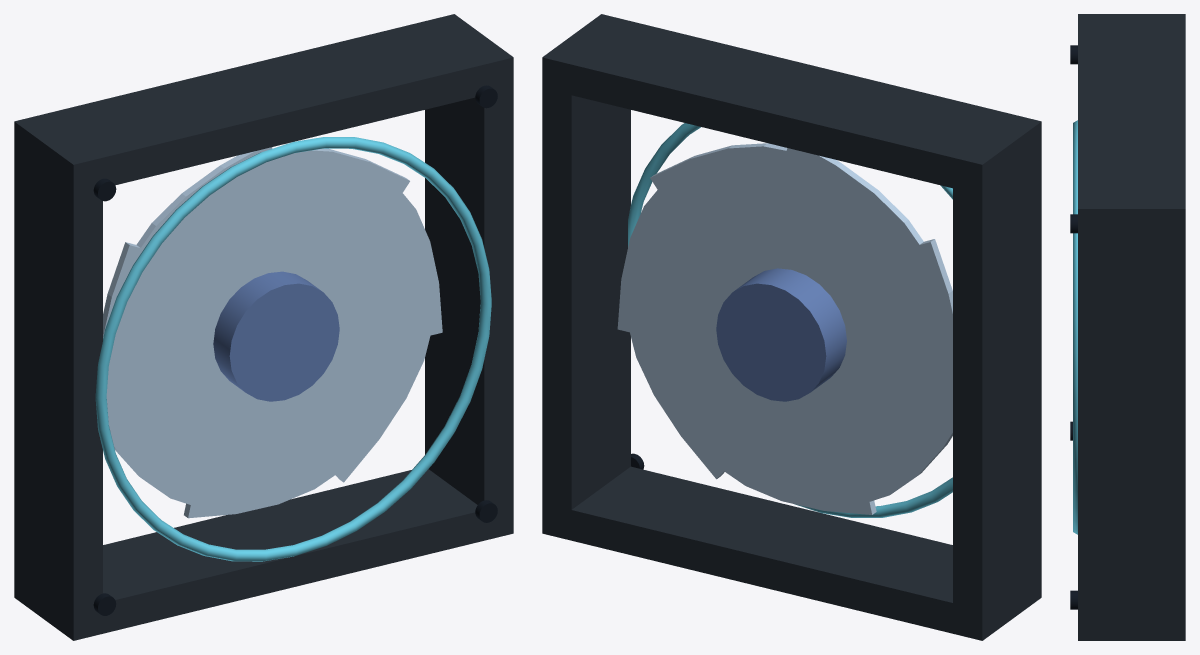
The model's file is retail-lian-li-uni-fan-tl-120-lcd-wireless-black.glb.
3 renders of one model, left to right at view 1: azimuth 30°, elevation 25°; view 2: azimuth 150°, elevation 25°; view 3: azimuth 270°, elevation 25°, orthographic. The views are drawn at different scales.
Parts seen in each view (by area): view 1: Frame edge (×4), Blade (×7), Intake rim, Motor hub; view 2: Frame edge (×4), Blade (×7), Motor hub, Intake rim; view 3: Frame edge (×3), Intake rim.
Boxes of the visible parts, x1,y1,x2,y2 form: Frame edge (×4): (14, 14, 513, 640); Blade (×7): (103, 147, 442, 518); Intake rim: (95, 137, 491, 561); Motor hub: (213, 271, 339, 401); Frame edge (×4): (542, 14, 1041, 640); Blade (×7): (617, 143, 952, 514); Motor hub: (716, 268, 846, 401); Intake rim: (628, 123, 952, 517); Frame edge (×3): (1078, 14, 1185, 640); Intake rim: (1073, 120, 1077, 534).
Size of the model in its own units: 0.12 by 0.124 by 0.03.
